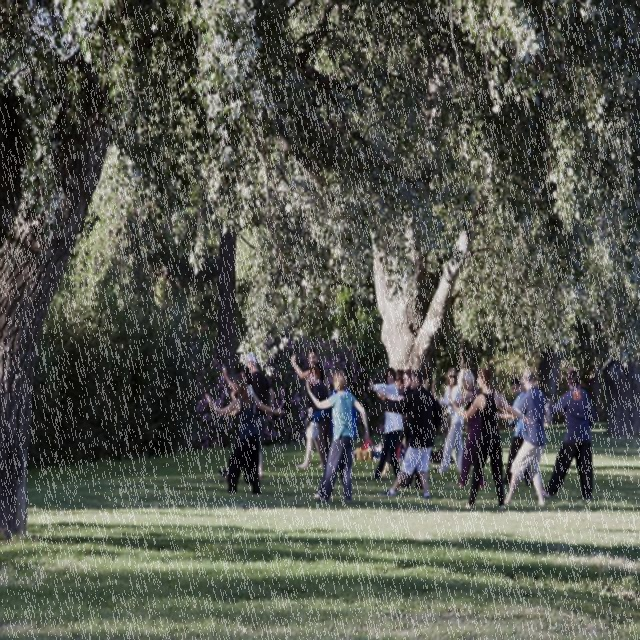pessoa: (447, 363, 537, 511), (204, 372, 286, 498), (373, 366, 444, 498), (304, 370, 372, 502), (493, 368, 551, 510), (540, 368, 596, 504), (305, 364, 360, 501), (214, 361, 268, 484), (440, 366, 490, 492), (377, 367, 425, 492), (290, 348, 332, 470), (367, 364, 404, 482), (244, 350, 276, 479), (496, 375, 532, 487), (430, 366, 465, 476), (373, 366, 404, 480), (302, 366, 332, 468), (441, 406, 452, 418), (454, 438, 458, 460)
